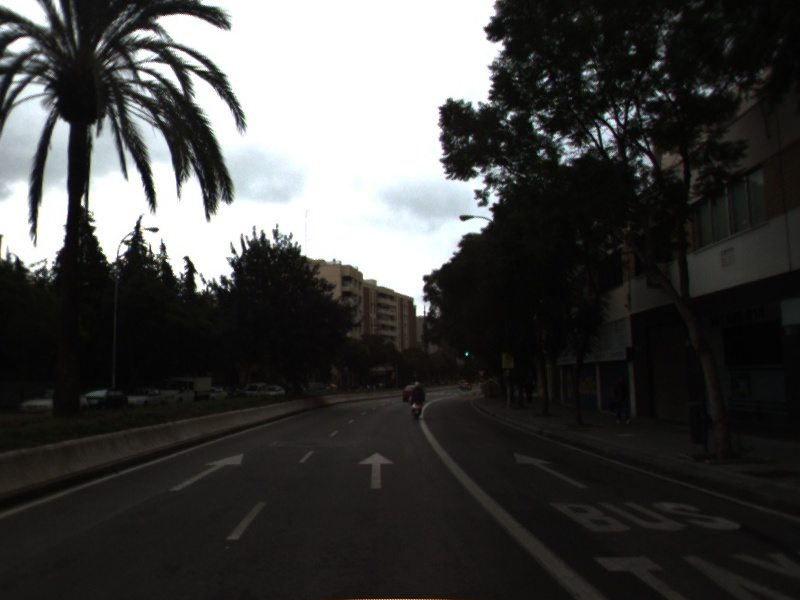STRAIGHT: (167, 451, 247, 493), (512, 450, 591, 491), (356, 450, 398, 491)
